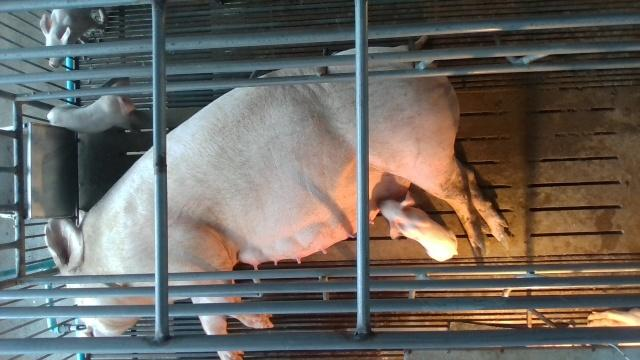piglet: (379, 197, 460, 262), (39, 8, 108, 68), (48, 93, 135, 134)
sow-sleep-lactate: (46, 32, 514, 360)
